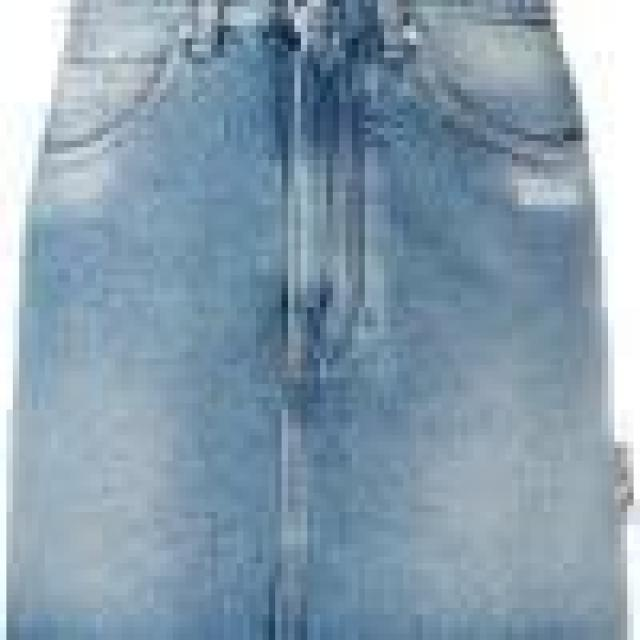skirt: (26, 3, 608, 637)
